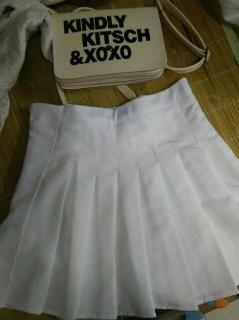skirt: (0, 77, 239, 319)
